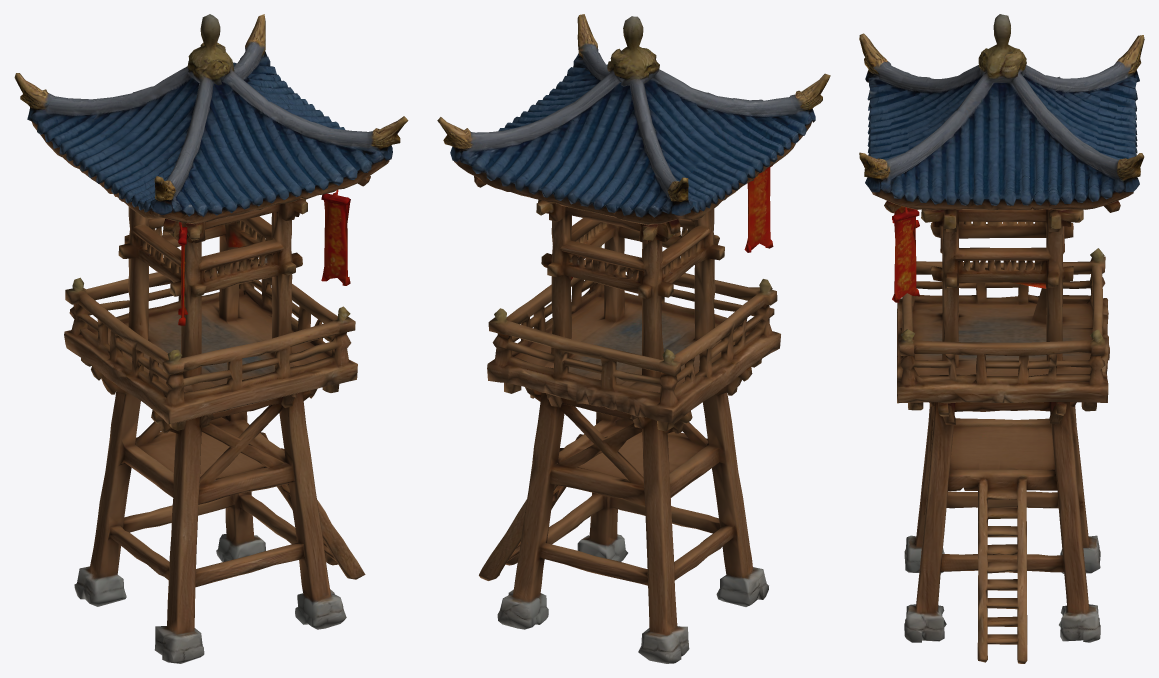
Rendered from watchtower.glb.
The picture shows the model from 3 angles, left to right: view 1: azimuth 30°, elevation 25°; view 2: azimuth 150°, elevation 25°; view 3: azimuth 270°, elevation 25°; orthographic projection.
Visible parts, largest first — view 1: tripo_node_4923e22a-e8eb-441d-a2af-9a7d597d49af; view 2: tripo_node_4923e22a-e8eb-441d-a2af-9a7d597d49af; view 3: tripo_node_4923e22a-e8eb-441d-a2af-9a7d597d49af.
Boxes of the visible parts, left/top/right/bottom form: tripo_node_4923e22a-e8eb-441d-a2af-9a7d597d49af: left=14, top=14, right=408, bottom=663; tripo_node_4923e22a-e8eb-441d-a2af-9a7d597d49af: left=437, top=14, right=830, bottom=663; tripo_node_4923e22a-e8eb-441d-a2af-9a7d597d49af: left=859, top=14, right=1144, bottom=663.
Bounding box in the file's own units: 0.4727 × 1 × 0.4413.
Materials: 1 (1 with a texture image).
